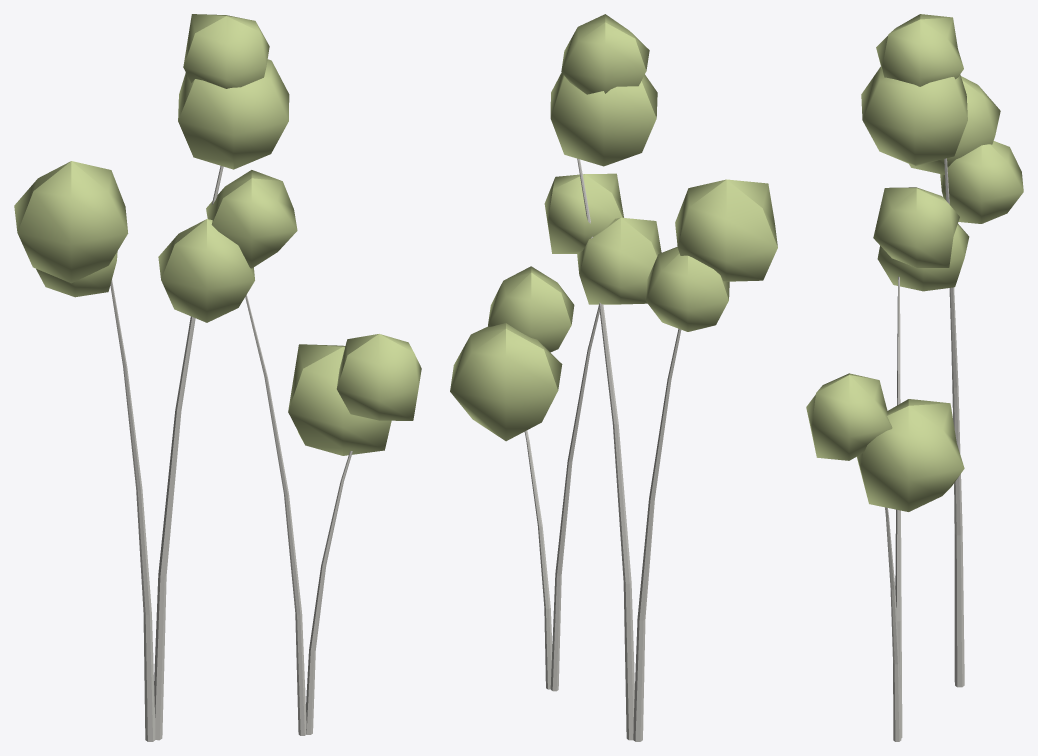
The model's file is sapling-pair.glb.
3 views of the same model, side by side, from view 1: azimuth 30°, elevation 25°; view 2: azimuth 150°, elevation 25°; view 3: azimuth 270°, elevation 25° (orthographic). The views are drawn at different scales.
Parts seen in each view (by area): view 1: sapling-pair; view 2: sapling-pair; view 3: sapling-pair.
Part boxes in pixels (x1,y1,x2,y2): sapling-pair: (14, 14, 421, 741); sapling-pair: (450, 14, 777, 741); sapling-pair: (806, 14, 1023, 741).
Size of the model in its own units: 1.27 by 2.44 by 0.6992.
